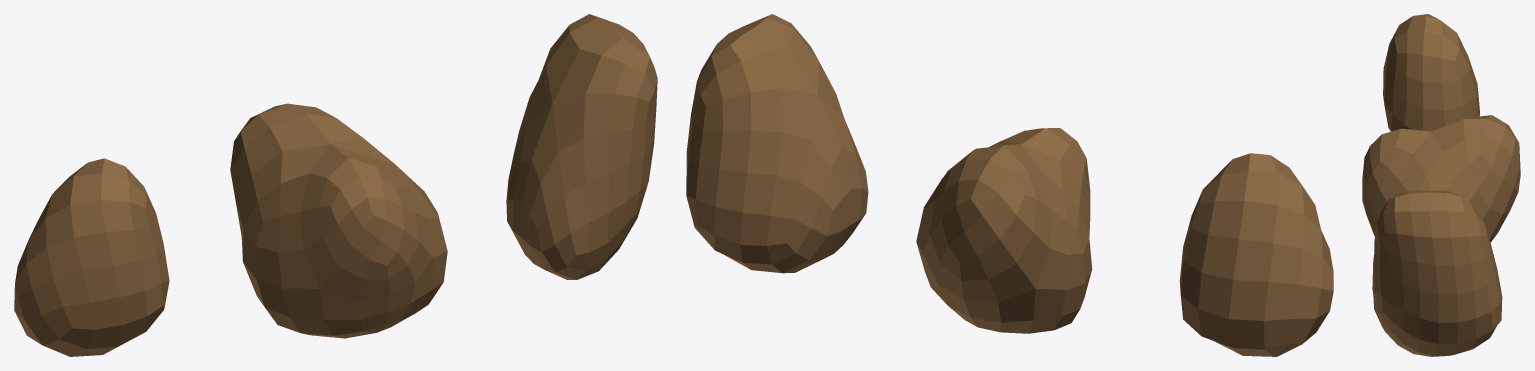
Rendered from Potato.fbx.
The picture shows the model from 3 angles, left to right: view 1: azimuth 30°, elevation 25°; view 2: azimuth 150°, elevation 25°; view 3: azimuth 270°, elevation 25°; orthographic projection. The views are drawn at different scales.
Visible parts, largest first — view 1: Potato 2, Potato 1, Potato 3; view 2: Potato 1, Potato 2, Potato 3; view 3: Potato 1, Potato 2, Potato 3.
Boxes of the visible parts, x1,y1,x2,y2 form: Potato 2: (230, 103, 447, 338); Potato 1: (506, 14, 657, 279); Potato 3: (14, 158, 169, 356); Potato 1: (686, 14, 868, 273); Potato 2: (916, 128, 1092, 333); Potato 3: (1179, 153, 1333, 356); Potato 1: (1372, 190, 1502, 356); Potato 2: (1362, 115, 1520, 242); Potato 3: (1383, 14, 1479, 131).
Bounding box in the file's own units: 3.11 × 1.13 × 0.9112.
